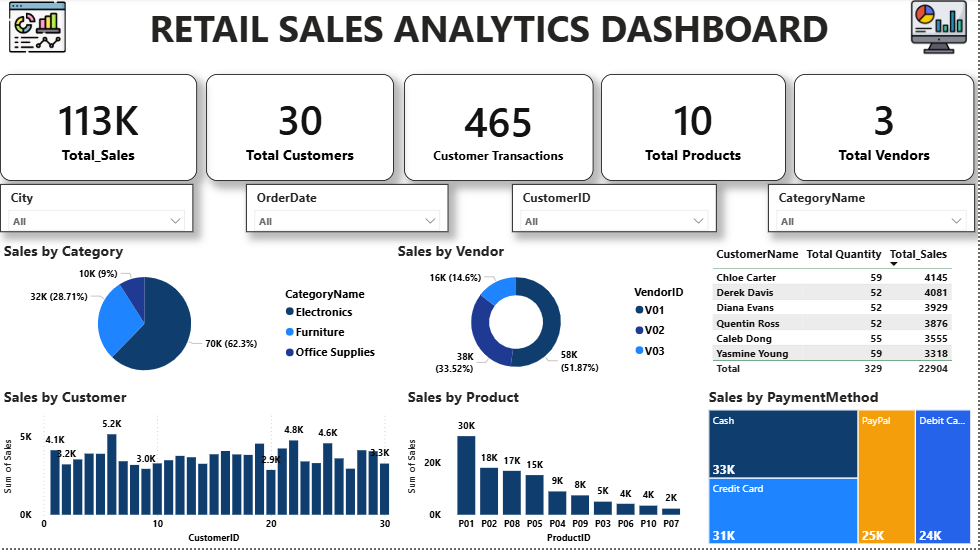

The page's visual inventory and layout, read from the dashboard file:
{"tool":"powerbi","page":{"name":"Sales Wise Analysis","canvas":[1280,720],"ordinal":0},"visuals":[{"type":"columnChart","title":"Sales by Customer","fields":{"Category":["Customers.CustomerID"],"Y":["Sum(CustomerPurchases.Sales)"]},"box":[0,509.8,515.5,210.2],"z":0},{"type":"donutChart","title":"Sales by Vendor","fields":{"Category":["Vendors.VendorID"],"Series":["Vendors.VendorName"],"Y":["Sum(CustomerPurchases.Sales)"]},"box":[515.5,318.2,407.5,187.2],"z":1000},{"type":"columnChart","title":"Sales by Product","fields":{"Category":["Products.ProductID"],"Y":["Sum(CustomerPurchases.Sales)"]},"box":[528.5,509.8,378.7,210.2],"z":2000},{"type":"pieChart","title":"Sales by Category","fields":{"Category":["Categories (2).CategoryName"],"Y":["Sum(CustomerPurchases.Sales)"]},"box":[0,318.2,505.4,191.5],"z":3000},{"type":"textbox","box":[0,0,1280,75.7],"z":4000},{"type":"image","box":[1177.9,0,102.1,75.7],"z":5000},{"type":"image","box":[0,0,98.6,75.7],"z":6000},{"type":"cardVisual","fields":{"Data":["Sum(Customers.CustomerID)"]},"box":[528.5,99.4,247.7,139.7],"z":7000},{"type":"cardVisual","fields":{"Data":["Count(Products.ProductID)"]},"box":[786.2,99.4,241.9,139.7],"z":8000},{"type":"cardVisual","fields":{"Data":["Count(Vendors.VendorID)"]},"box":[1039.7,99.4,236.2,139.7],"z":9000},{"type":"cardVisual","fields":{"Data":["CountNonNull(Customers.CustomerID)"]},"box":[269.3,99.4,246.2,139.7],"z":10000},{"type":"cardVisual","fields":{"Data":["CustomerPurchases.Total_Sales"]},"box":[0,99.4,257.8,139.7],"z":11000},{"type":"tableEx","fields":{"Values":["Customers.CustomerName","Sum(CustomerPurchases.Quantity)","CustomerPurchases.Total_Sales"]},"box":[927.4,318.2,352.8,187.2],"z":12000},{"type":"treemap","title":"Sales by PaymentMethod ","fields":{"Group":["CustomerPurchases.PaymentMethod"],"Values":["Sum(CustomerPurchases.Sales)"]},"box":[923,509.8,352.8,210.2],"z":13000},{"type":"slicer","fields":{"Values":["Customers.City"]},"box":[0,243.4,253.4,63.4],"z":14000},{"type":"slicer","fields":{"Values":["CustomerPurchases.OrderDate"]},"box":[322.6,243.4,265,63.4],"z":15000},{"type":"slicer","fields":{"Values":["Categories (2).CategoryName"]},"box":[1005.1,243.4,270.7,63.4],"z":16000},{"type":"slicer","fields":{"Values":["CustomerPurchases.CustomerID"]},"box":[669.6,243.4,267.8,63.4],"z":17000}]}

Visuals, with their boxes in screenshot pixels (x1, y1, x2, y2), scaled from the page's 1280x720 canvas onto the 980x550 screenshot:
"Sales by Customer" columnChart: [x1=0, y1=389, x2=395, y2=549]
"Sales by Vendor" donutChart: [x1=395, y1=243, x2=707, y2=386]
"Sales by Product" columnChart: [x1=405, y1=389, x2=695, y2=549]
"Sales by Category" pieChart: [x1=0, y1=243, x2=387, y2=389]
textbox: [x1=0, y1=0, x2=979, y2=58]
image: [x1=902, y1=0, x2=979, y2=58]
image: [x1=0, y1=0, x2=75, y2=58]
cardVisual - Sum(Customers.CustomerID): [x1=405, y1=76, x2=594, y2=183]
cardVisual - Count(Products.ProductID): [x1=602, y1=76, x2=787, y2=183]
cardVisual - Count(Vendors.VendorID): [x1=796, y1=76, x2=977, y2=183]
cardVisual - CountNonNull(Customers.CustomerID): [x1=206, y1=76, x2=395, y2=183]
cardVisual - CustomerPurchases.Total_Sales: [x1=0, y1=76, x2=197, y2=183]
tableEx - Customers.CustomerName x Sum(CustomerPurchases.Quantity): [x1=710, y1=243, x2=979, y2=386]
"Sales by PaymentMethod " treemap: [x1=707, y1=389, x2=977, y2=549]
slicer - Customers.City: [x1=0, y1=186, x2=194, y2=234]
slicer - CustomerPurchases.OrderDate: [x1=247, y1=186, x2=450, y2=234]
slicer - Categories (2).CategoryName: [x1=770, y1=186, x2=977, y2=234]
slicer - CustomerPurchases.CustomerID: [x1=513, y1=186, x2=718, y2=234]
